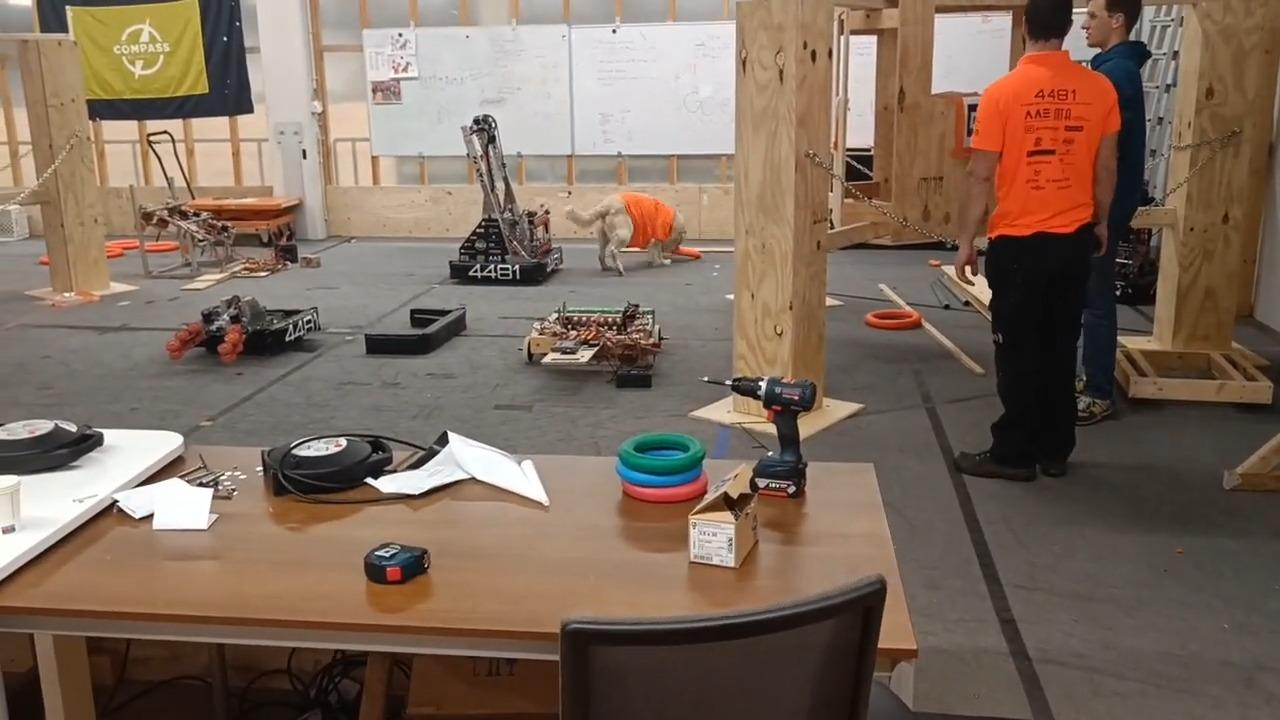robot: (445, 108, 565, 282), (161, 292, 325, 365)
